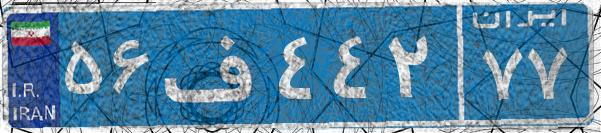2: (385, 28, 445, 110)
4: (273, 28, 330, 110), (330, 28, 385, 110)
5: (57, 26, 110, 107)
6: (110, 28, 158, 105)
7: (475, 38, 525, 113), (525, 38, 570, 115)
ف: (158, 15, 273, 115)
